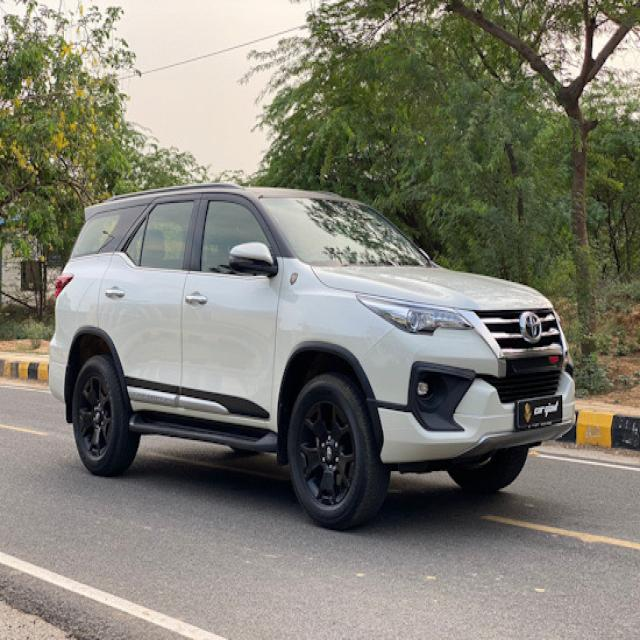light_vehicle: (47, 182, 577, 528)
